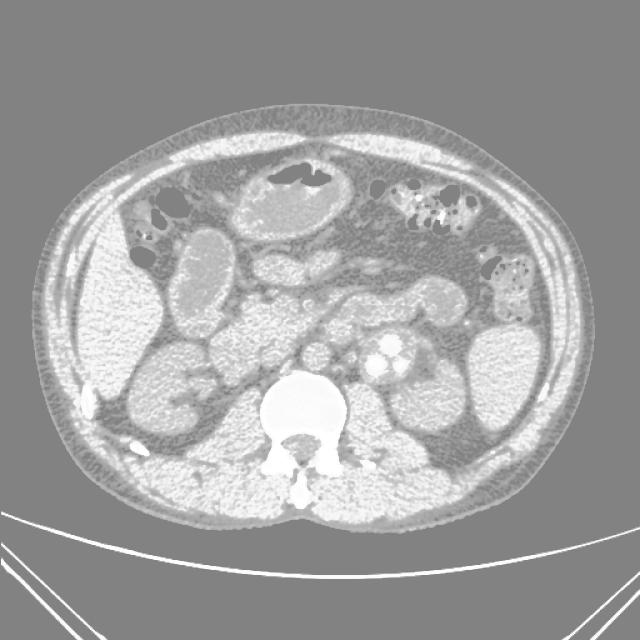STONE: (114, 141, 545, 450)
